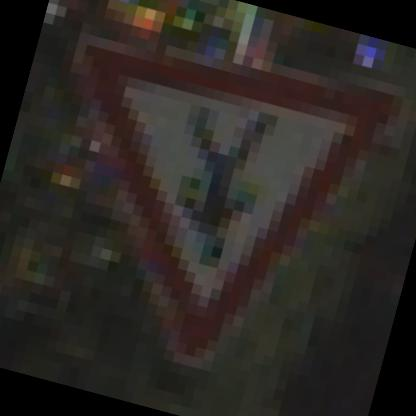crosswalk: (3, 2, 408, 393)
